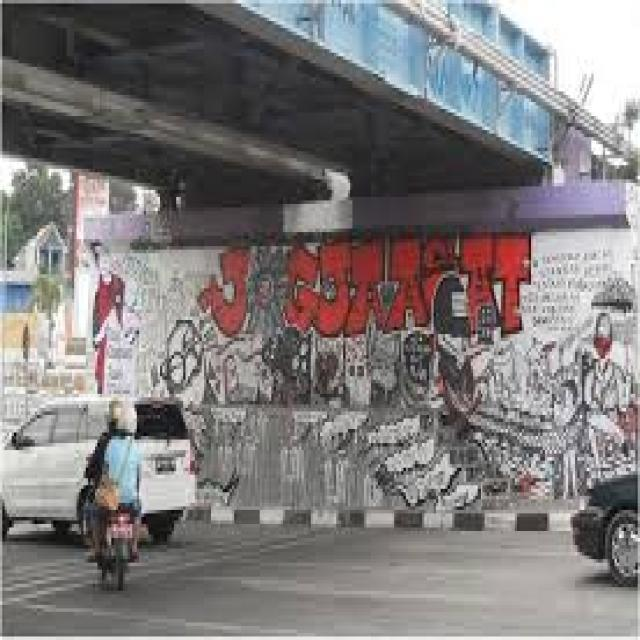-: (155, 275, 640, 507), (196, 238, 532, 338), (88, 240, 128, 384)
